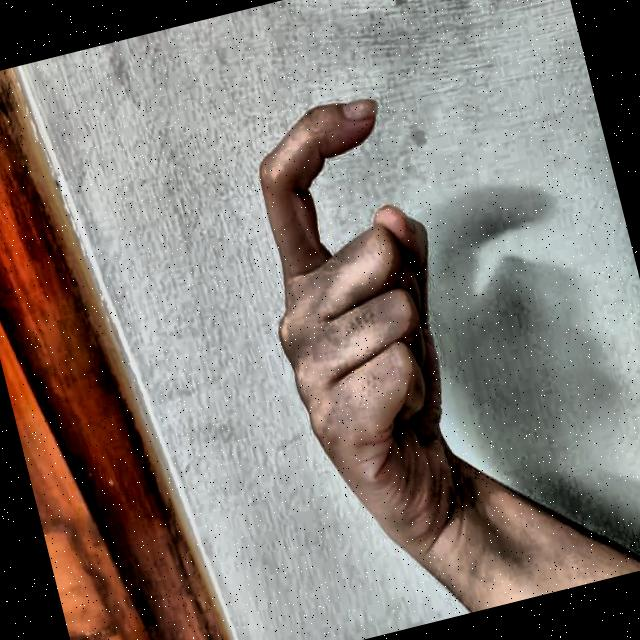E: (207, 45, 522, 544)
